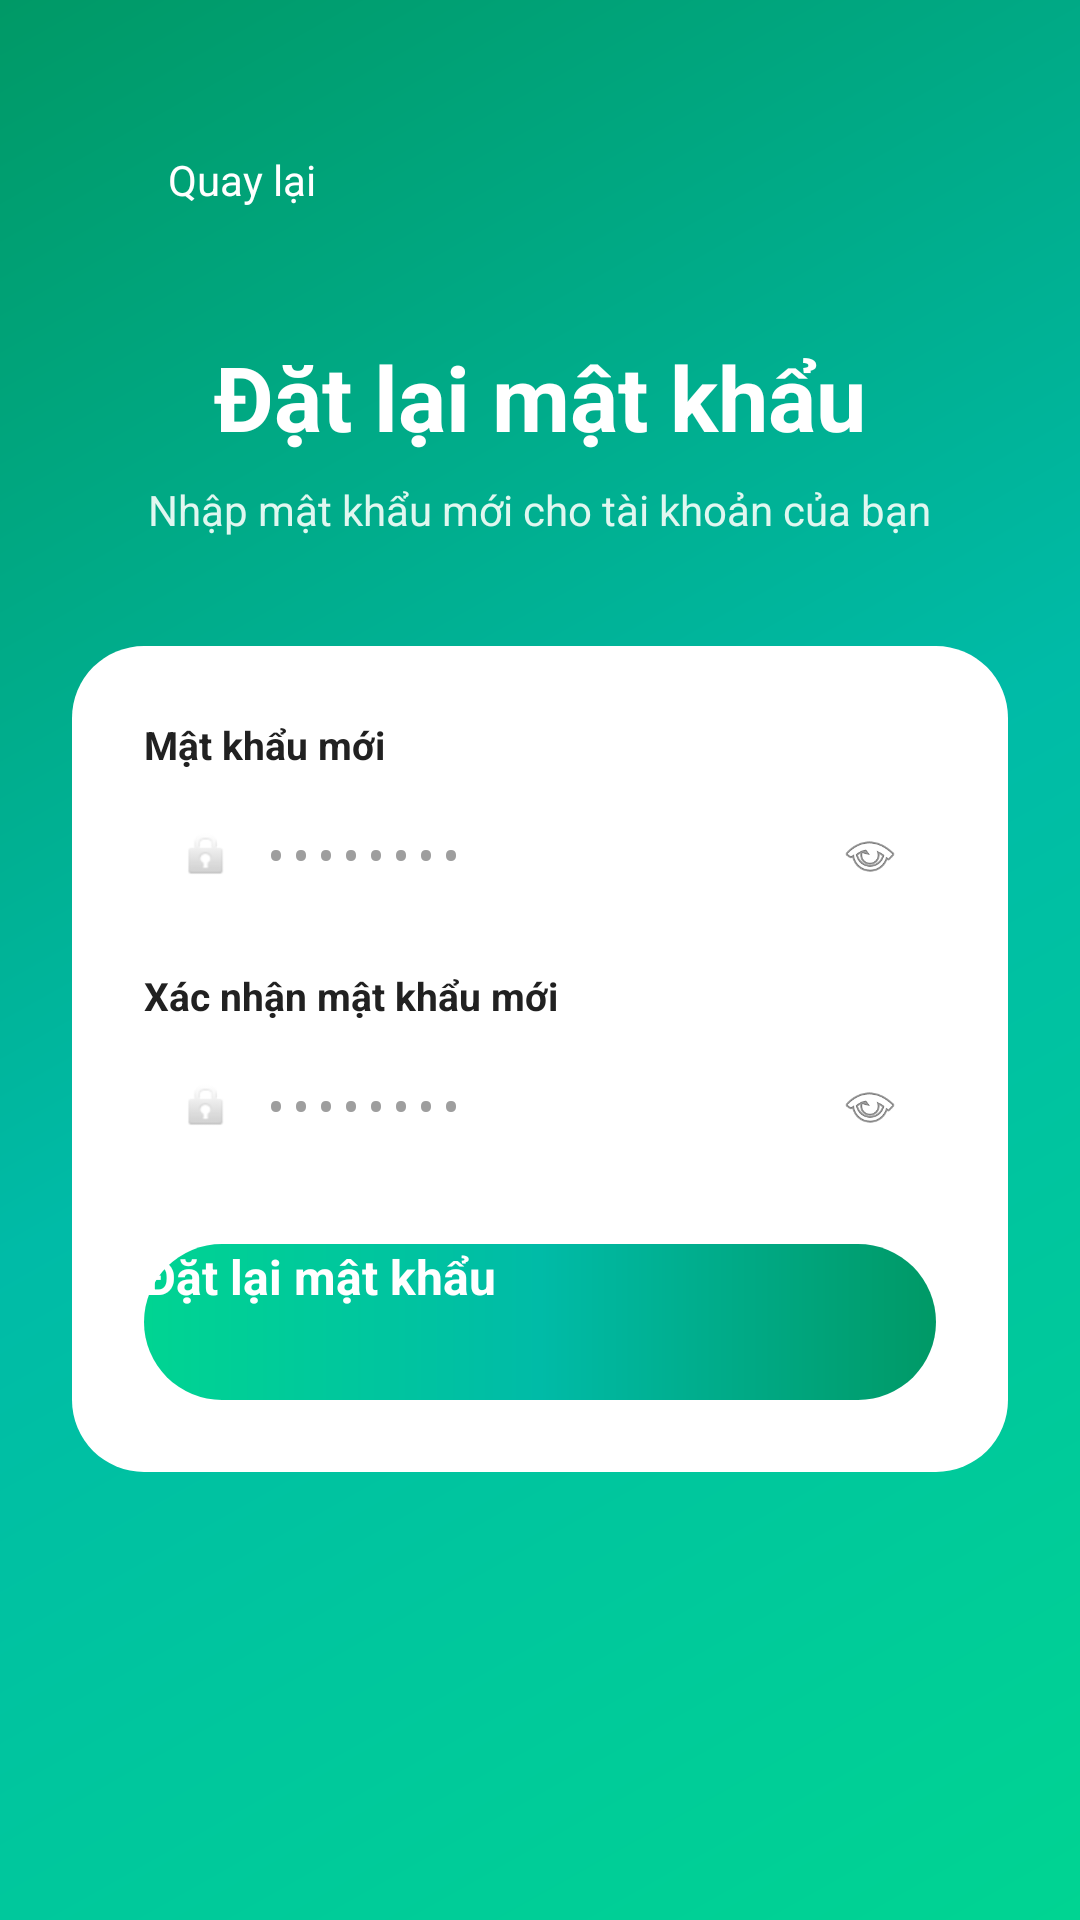

Screen size 1080 × 1920. Icon name, then its box in pixels as [x1, y1, x2, y2]:
lock idle: [188, 851, 223, 874], [189, 1102, 223, 1125]
view: [846, 841, 894, 872], [846, 1092, 894, 1123]
